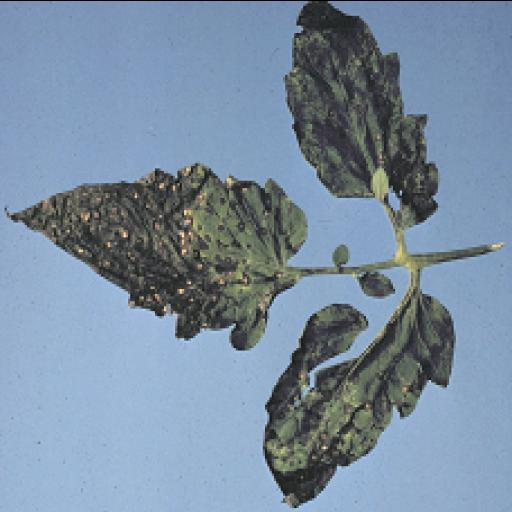Septoria: (0, 158, 303, 354), (260, 276, 460, 512), (282, 2, 445, 236)
